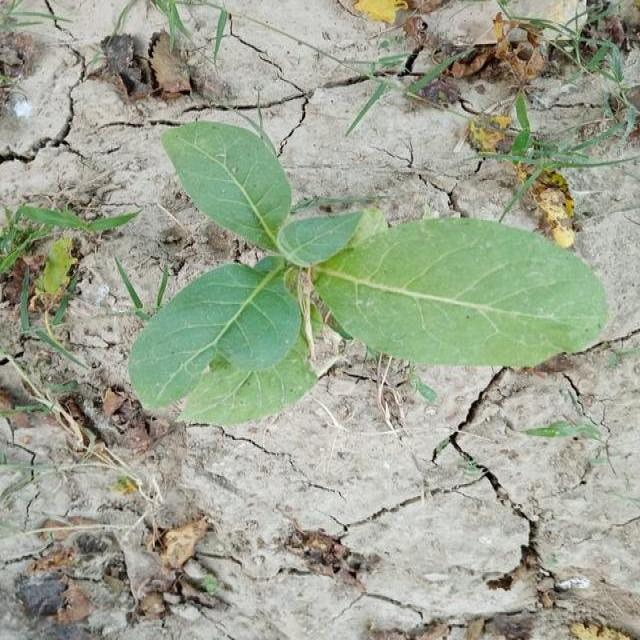crop: (135, 120, 608, 426)
